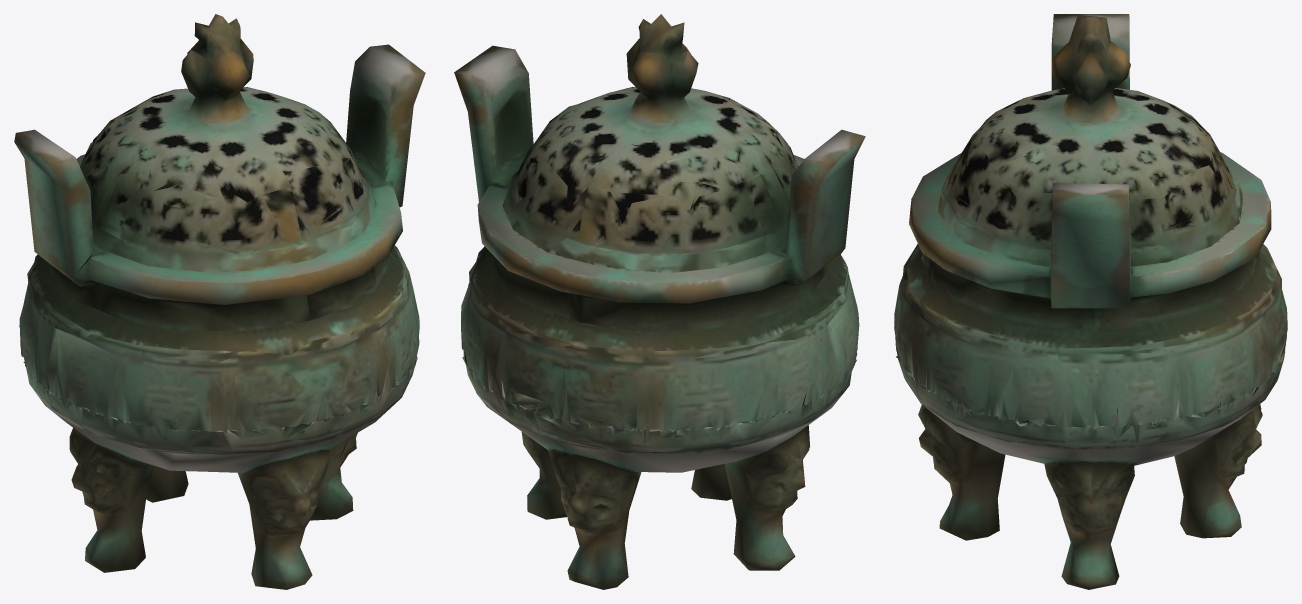
Rendered from xiaoxiangding.glb.
3 views of the same model, side by side, from view 1: azimuth 30°, elevation 25°; view 2: azimuth 150°, elevation 25°; view 3: azimuth 270°, elevation 25° (orthographic).
Parts seen in each view (by area): view 1: 小香鼎; view 2: 小香鼎; view 3: 小香鼎.
Boxes of the visible parts, x1,y1,x2,y2 form: 小香鼎: (14, 14, 425, 589); 小香鼎: (454, 14, 865, 589); 小香鼎: (894, 14, 1287, 589).
Bounding box in the file's own units: 0.1897 × 0.25 × 0.1739.
Materials: 1 (1 with a texture image).
